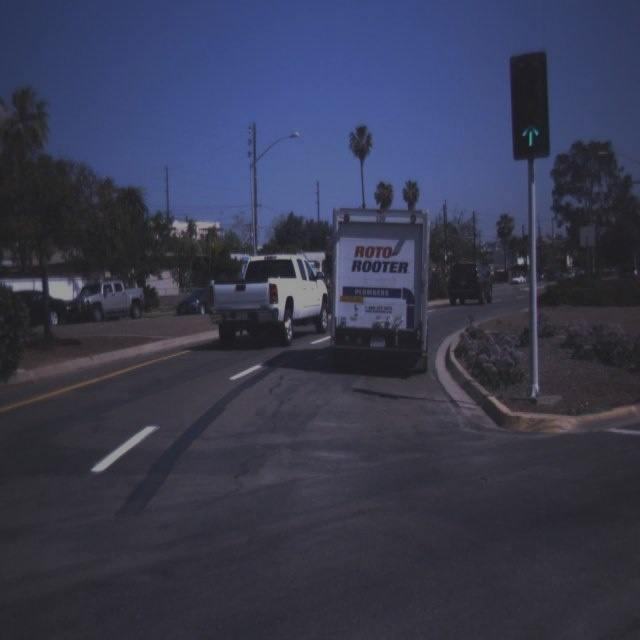go forward: (508, 51, 552, 155)
go forward traffic light: (508, 51, 552, 155)
